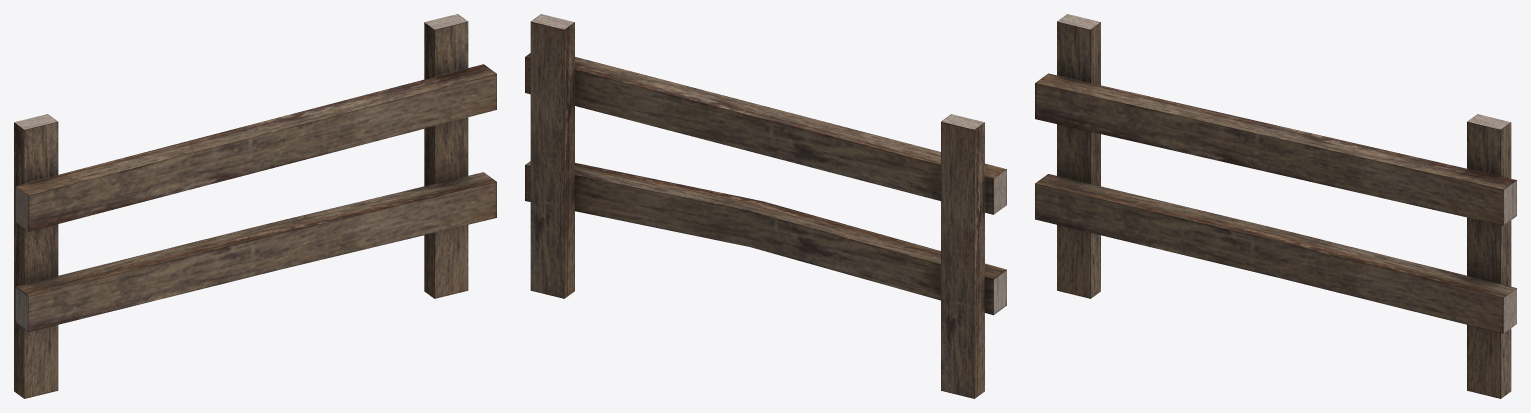
File: wood_wall_small_01.FBX
3 views of the same model, side by side, from view 1: azimuth 30°, elevation 25°; view 2: azimuth 150°, elevation 25°; view 3: azimuth 330°, elevation 25° (orthographic).
Visible parts, largest first — view 1: Box002; view 2: Box002; view 3: Box002.
Boxes of the visible parts, x1,y1,x2,y2 form: Box002: [14, 14, 496, 398]; Box002: [525, 14, 1006, 398]; Box002: [1035, 14, 1516, 398].
Size of the model in its own units: 79 by 7.97 by 43.36.
